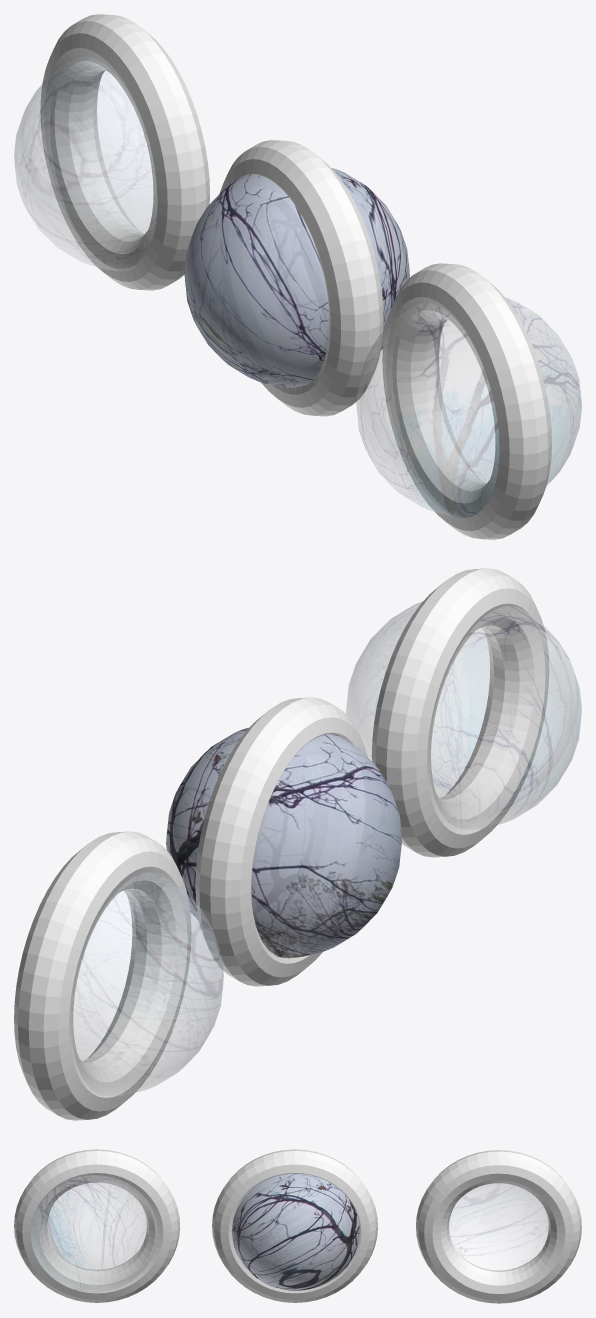
File: lookingthroughandbeyond.glb
The picture shows the model from 3 angles, top to bottom: view 1: azimuth 30°, elevation 25°; view 2: azimuth 150°, elevation 25°; view 3: azimuth 270°, elevation 25°; orthographic projection. The views are drawn at different scales.
Visible parts, largest first — view 1: Torus, Torus.002, Sphere, Sphere.001, Sphere.002, Torus.001; view 2: Torus.002, Torus, Sphere.001, Sphere, Sphere.002, Torus.001; view 3: Torus, Torus.002, Sphere.001, Sphere, Torus.001, Sphere.002.
Boxes of the visible parts, x1,y1,x2,y2 form: Torus: [382, 263, 551, 539]; Torus.002: [40, 14, 209, 290]; Sphere: [356, 298, 581, 516]; Sphere.001: [184, 168, 409, 388]; Sphere.002: [14, 56, 157, 270]; Torus.001: [219, 140, 383, 416]; Torus.002: [14, 831, 191, 1120]; Torus: [371, 568, 549, 857]; Sphere.001: [166, 727, 402, 958]; Sphere: [346, 601, 581, 829]; Sphere.002: [71, 872, 223, 1096]; Torus.001: [195, 697, 368, 986]; Torus: [14, 1149, 179, 1302]; Torus.002: [416, 1150, 581, 1303]; Sphere.001: [231, 1173, 359, 1290]; Sphere: [30, 1175, 157, 1292]; Torus.001: [212, 1149, 377, 1302]; Sphere.002: [449, 1183, 548, 1269].
Size of the model in its own units: 2 by 2.51 by 8.55.
6 materials, 3 textured.
